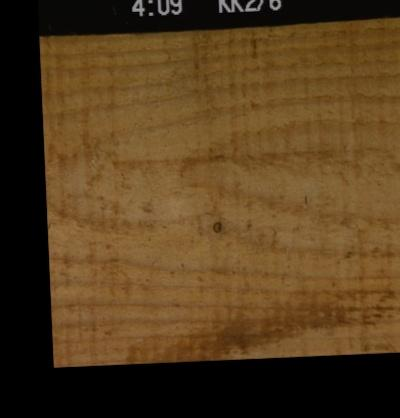dry_knot: (211, 219, 222, 232)
